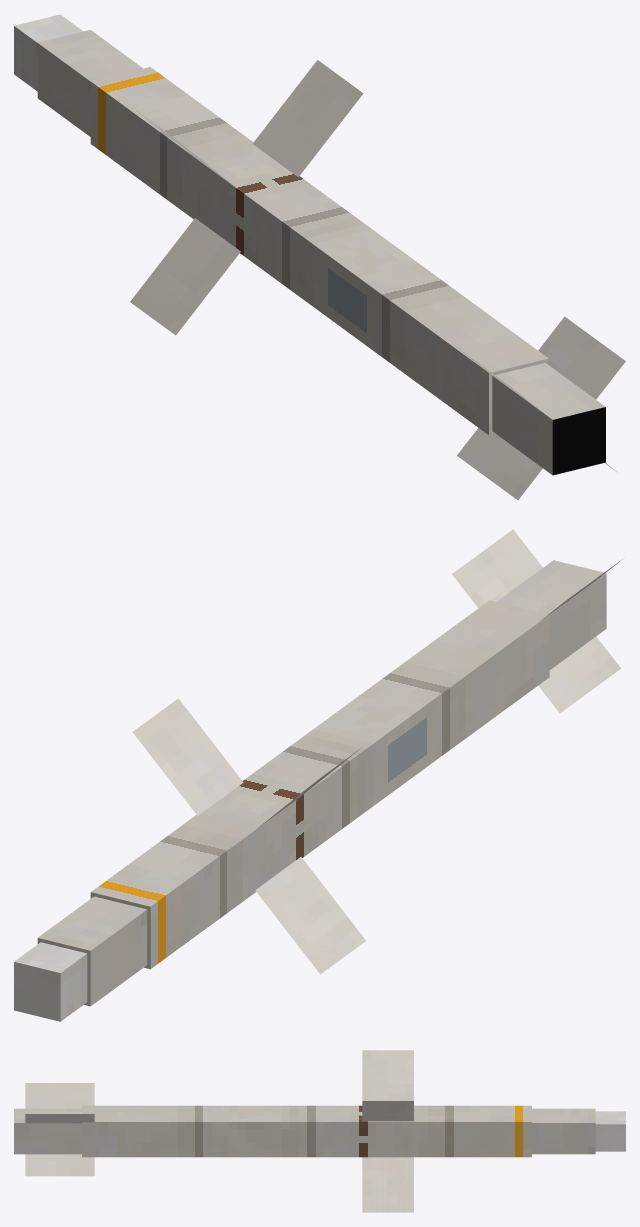
Rendered from agm88.obj.
3 views of the same model, one above another, from view 1: azimuth 30°, elevation 25°; view 2: azimuth 150°, elevation 25°; view 3: azimuth 270°, elevation 25° (orthographic). The views are drawn at different scales.
Visible parts, largest first — view 1: cube0, cube6, cube3, cube5, cube1, cube2; view 2: cube0, cube6, cube5, cube1, cube3, cube2; view 3: cube0, cube7, cube4, cube1, cube3, cube2, cube6, cube5.
Boxes of the visible parts, <box> form: cube0: <box>90,67,548,435</box>; cube6: <box>130,60,363,335</box>; cube3: <box>492,363,605,475</box>; cube5: <box>457,316,625,499</box>; cube1: <box>37,30,142,136</box>; cube2: <box>14,14,83,91</box>; cube0: <box>90,600,549,969</box>; cube6: <box>132,698,365,974</box>; cube5: <box>452,529,620,712</box>; cube1: <box>37,896,147,1006</box>; cube3: <box>497,560,606,669</box>; cube2: <box>14,942,87,1021</box>; cube0: <box>82,1105,531,1157</box>; cube7: <box>362,1050,413,1212</box>; cube4: <box>25,1083,94,1176</box>; cube1: <box>532,1108,595,1154</box>; cube3: <box>14,1108,81,1154</box>; cube2: <box>595,1111,625,1151</box>; cube6: <box>362,1101,413,1121</box>; cube5: <box>25,1114,94,1123</box>.
Size of the model in its own units: 0.8894 by 0.8894 by 4.42.
